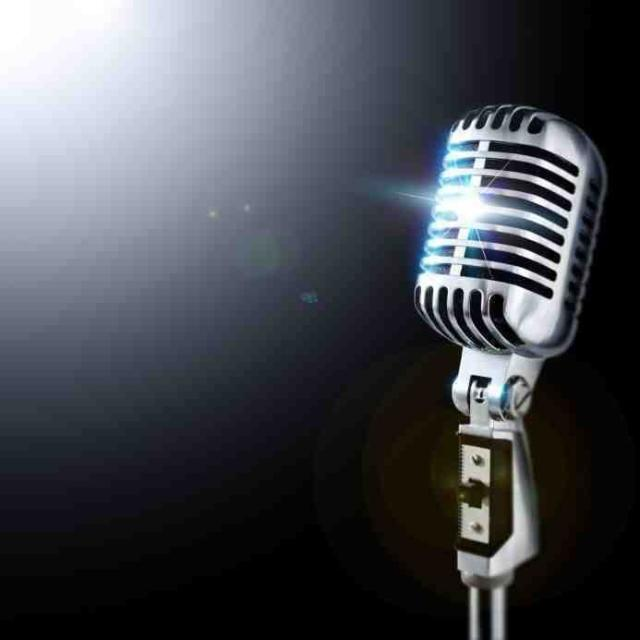microphone: (402, 94, 616, 402)
